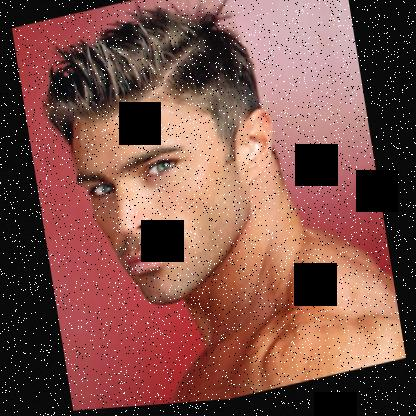Male: (64, 74, 296, 324)
